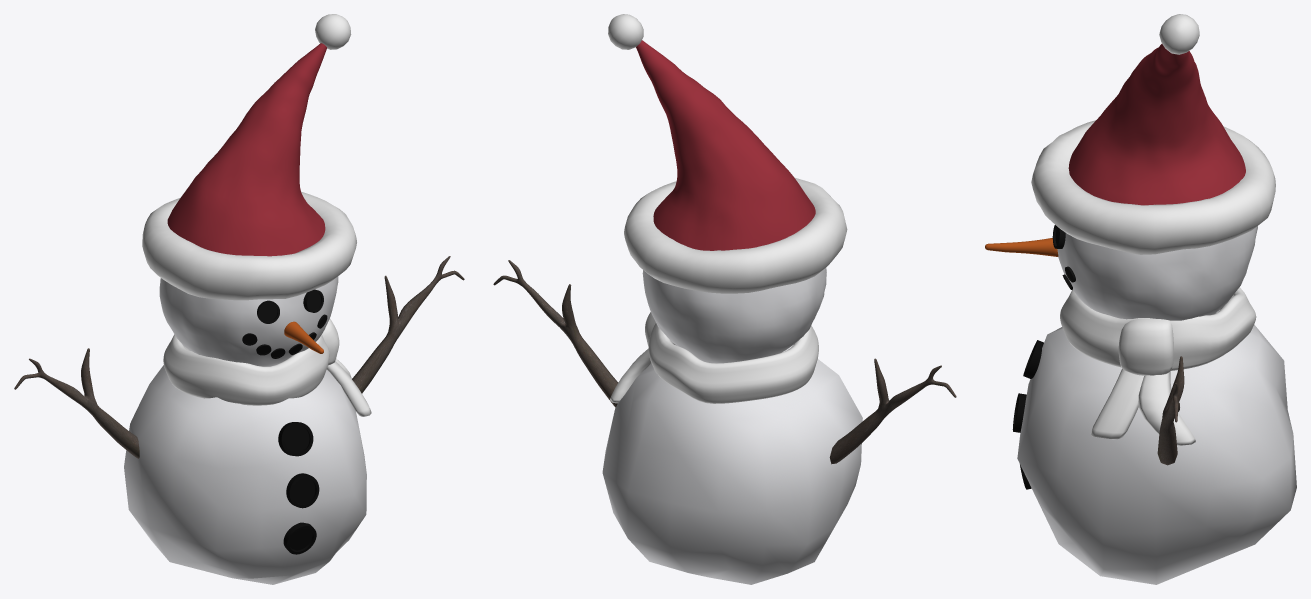
The model's file is SNOWMAN1.fbx.
The picture shows the model from 3 angles, left to right: view 1: azimuth 30°, elevation 25°; view 2: azimuth 150°, elevation 25°; view 3: azimuth 270°, elevation 25°; orthographic projection. The views are drawn at different scales.
Parts seen in each view (by area): view 1: Cube, Sphere.001, Sphere.003, Sphere.002, Cylinder.001, Cube.001, Circle.001, Circle; view 2: Cube, Sphere.001, Sphere.003, Sphere.002, Cylinder.001, Cube.001; view 3: Cube, Sphere.001, Sphere.003, Cylinder.001, Sphere.002, Cube.001, Circle.001, Cylinder, Circle.
Part boxes in pixels (x1,y1,x2,y2): Cube: [124, 365, 366, 584]; Sphere.001: [167, 43, 326, 256]; Sphere.003: [142, 14, 356, 300]; Sphere.002: [159, 276, 338, 366]; Cylinder.001: [163, 318, 371, 416]; Cube.001: [14, 256, 464, 458]; Circle.001: [278, 422, 319, 554]; Circle: [242, 289, 327, 358]; Cube: [602, 345, 862, 584]; Sphere.001: [636, 40, 815, 250]; Sphere.003: [608, 14, 847, 293]; Sphere.002: [642, 267, 826, 363]; Cylinder.001: [610, 312, 818, 403]; Cube.001: [493, 260, 956, 464]; Cube: [1017, 310, 1296, 584]; Sphere.001: [1068, 44, 1245, 205]; Sphere.003: [1031, 14, 1275, 254]; Cylinder.001: [1060, 287, 1256, 445]; Sphere.002: [1057, 226, 1257, 320]; Cube.001: [1157, 356, 1184, 465]; Circle.001: [1012, 340, 1043, 489]; Cylinder: [985, 238, 1058, 256]; Circle: [1052, 225, 1075, 289].
Bounding box in the file's own units: 178 × 199 × 94.4.
